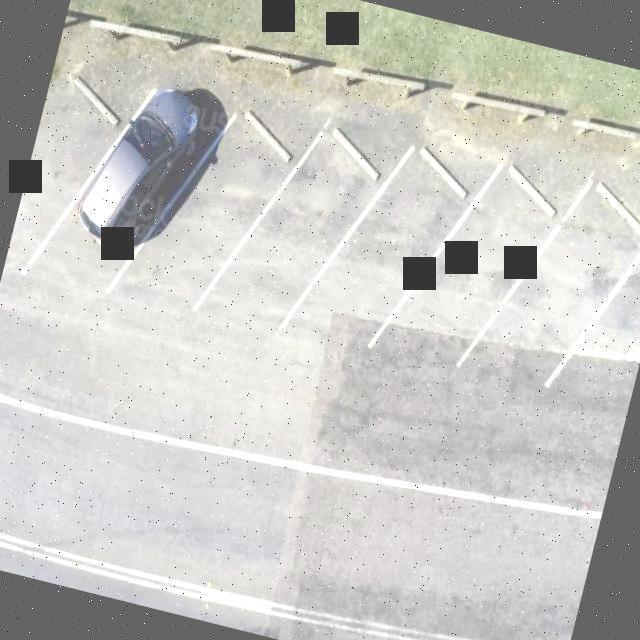space-empty: (97, 100, 330, 325), (275, 132, 511, 354), (187, 118, 420, 339), (363, 156, 599, 372), (453, 173, 640, 389), (0, 63, 157, 284), (543, 245, 640, 392)
space-occupied: (12, 79, 245, 302)
